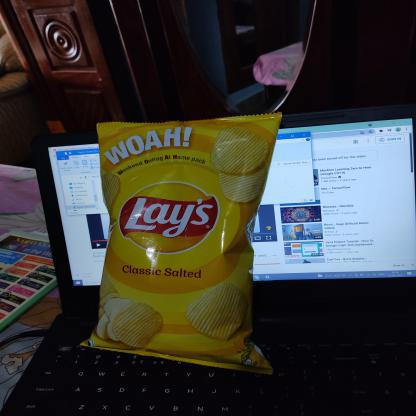classicsalted: (77, 111, 282, 377)
